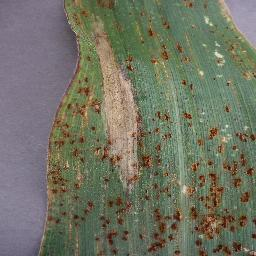Corn_Blight: (35, 98, 105, 255), (133, 111, 194, 256), (195, 124, 256, 254), (106, 84, 132, 256), (61, 0, 103, 97), (220, 11, 256, 86), (104, 17, 140, 82), (152, 39, 190, 67), (208, 9, 220, 77), (177, 0, 232, 12), (133, 83, 150, 111), (141, 20, 157, 41), (161, 17, 171, 36), (103, 0, 120, 11), (221, 104, 235, 115), (181, 80, 196, 90)
